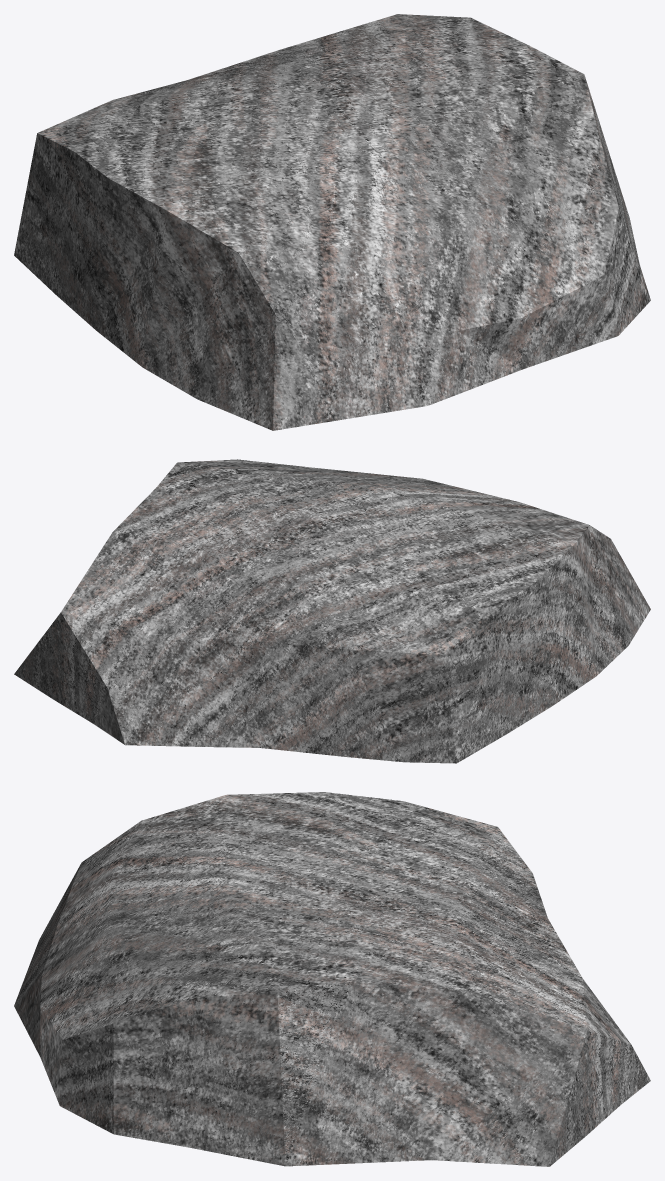
File: rock2.glb
3 renders of one model, top to bottom at view 1: azimuth 30°, elevation 25°; view 2: azimuth 150°, elevation 25°; view 3: azimuth 270°, elevation 25°, orthographic. The views are drawn at different scales.
Parts seen in each view (by area): view 1: Rock_10; view 2: Rock_10; view 3: Rock_10.
Part boxes in pixels (x1,y1,x2,y2): Rock_10: [14, 14, 650, 430]; Rock_10: [14, 459, 650, 763]; Rock_10: [14, 792, 650, 1166].
Bounding box in the file's own units: 39.6 × 12.09 × 44.02.
1 material, 1 textured.
